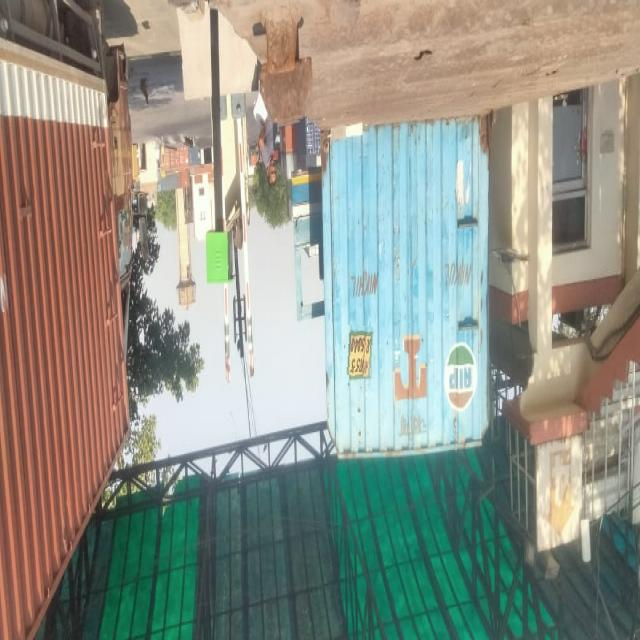License-plate: (343, 325, 375, 376)
